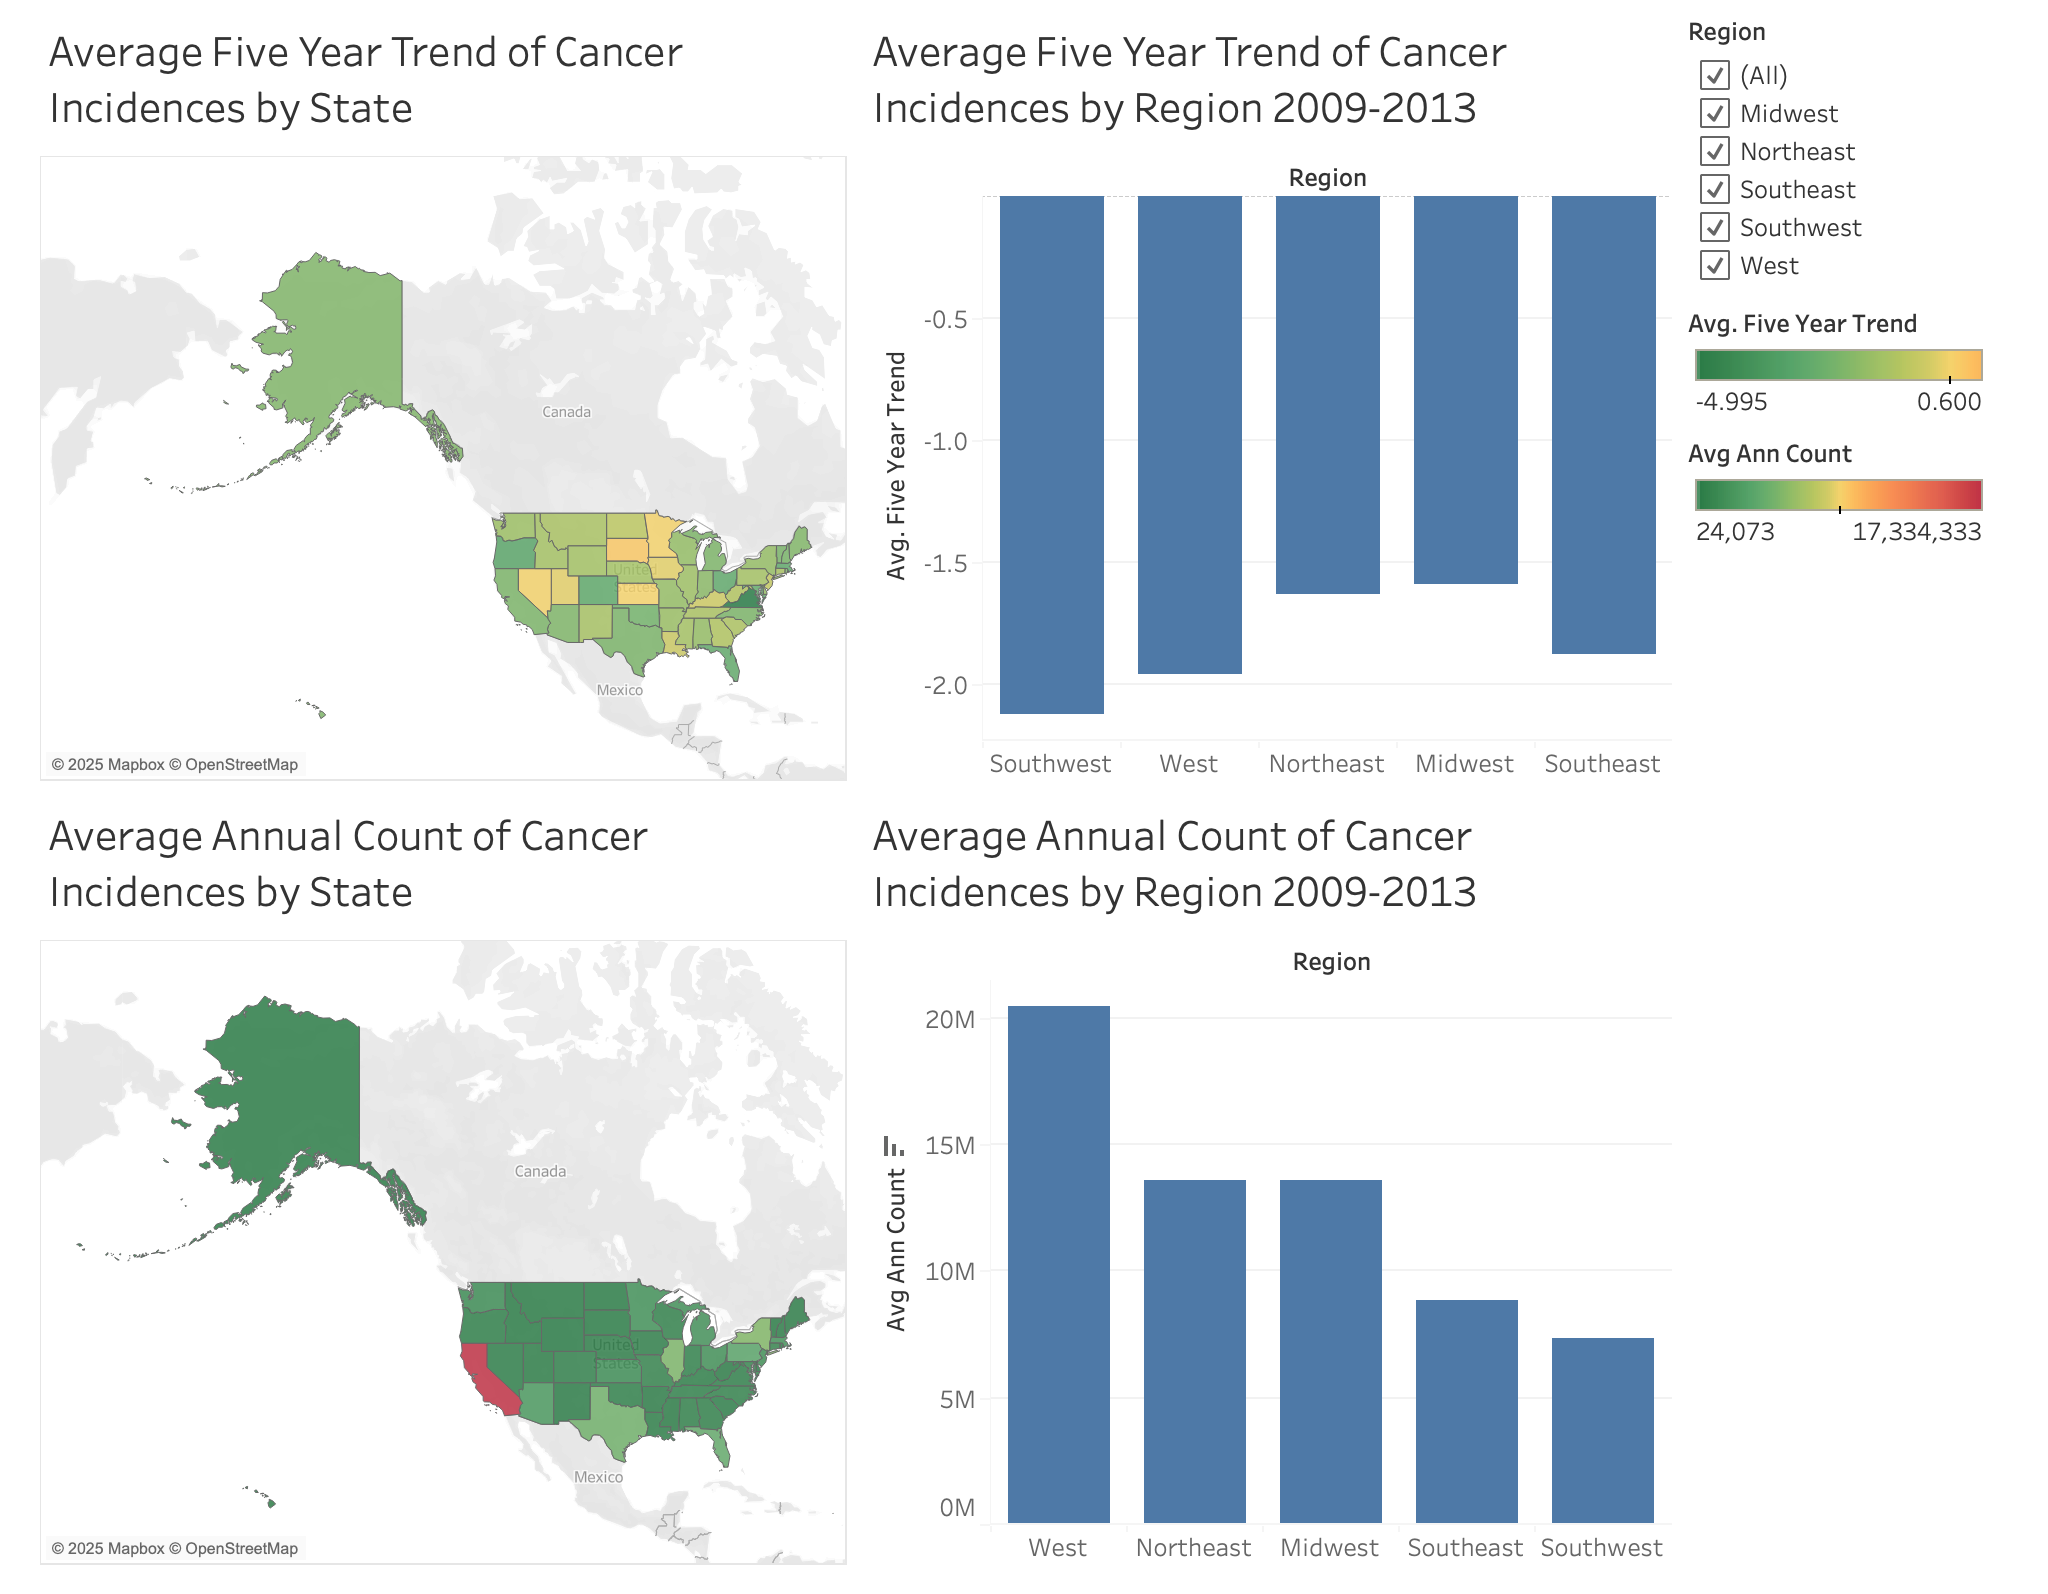

The page's visual inventory and layout, read from the dashboard file:
{"tool":"tableau","page":{"name":"Trends by State","canvas":[1000,800],"ordinal":8},"visuals":[{"type":"worksheet","title":"Avg Five Year Trend of Cancer Incidences by Region","mark":"Automatic","box":[8,8,412,392]},{"type":"worksheet","title":"Avg Five Year Trend of Cancer Incidences by Region (2)","mark":"Automatic","rows":["fiveYearTrend"],"cols":["Region"],"box":[420,8,412,392]},{"type":"filter","title":"Avg Five Year Trend of Cancer Incidences by Region","param":"[federated.04o36gq1rfu74516y9lqn1qlyah2].[none:Region:nk]","box":[832,8,160,146]},{"type":"legend","title":"Avg Five Year Trend of Cancer Incidences by Region","param":"[federated.04o36gq1rfu74516y9lqn1qlyah2].[avg:fiveYearTrend:qk]","box":[832,154,160,65]},{"type":"legend","title":"Average Annual Count by Region","param":"[federated.04o36gq1rfu74516y9lqn1qlyah2].[sum:avgAnnCount:qk]","box":[832,219,160,65]},{"type":"worksheet","title":"Average Annual Count by Region","mark":"Automatic","box":[8,400,412,392]},{"type":"worksheet","title":"Average Annual Count by Region (2)","mark":"Automatic","rows":["avgAnnCount"],"cols":["Region"],"box":[420,400,412,392]}]}

Visuals, with their boxes in screenshot pixels (x1, y1, x2, y2), scaled from the page's 1000x800 canvas onto the 2048x1594 screenshot:
"Avg Five Year Trend of Cancer Incidences by Region" worksheet: BBox(16, 16, 860, 797)
"Avg Five Year Trend of Cancer Incidences by Region (2)" worksheet: BBox(860, 16, 1704, 797)
"Avg Five Year Trend of Cancer Incidences by Region" filter: BBox(1704, 16, 2032, 307)
"Avg Five Year Trend of Cancer Incidences by Region" legend: BBox(1704, 307, 2032, 436)
"Average Annual Count by Region" legend: BBox(1704, 436, 2032, 566)
"Average Annual Count by Region" worksheet: BBox(16, 797, 860, 1578)
"Average Annual Count by Region (2)" worksheet: BBox(860, 797, 1704, 1578)
